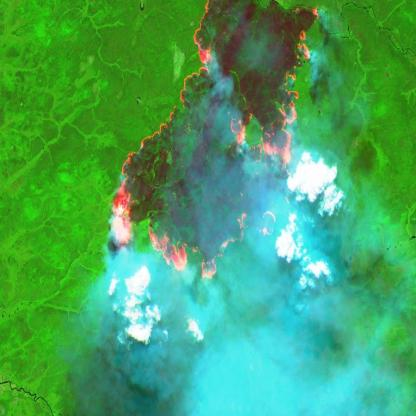fire: (109, 0, 321, 284)
